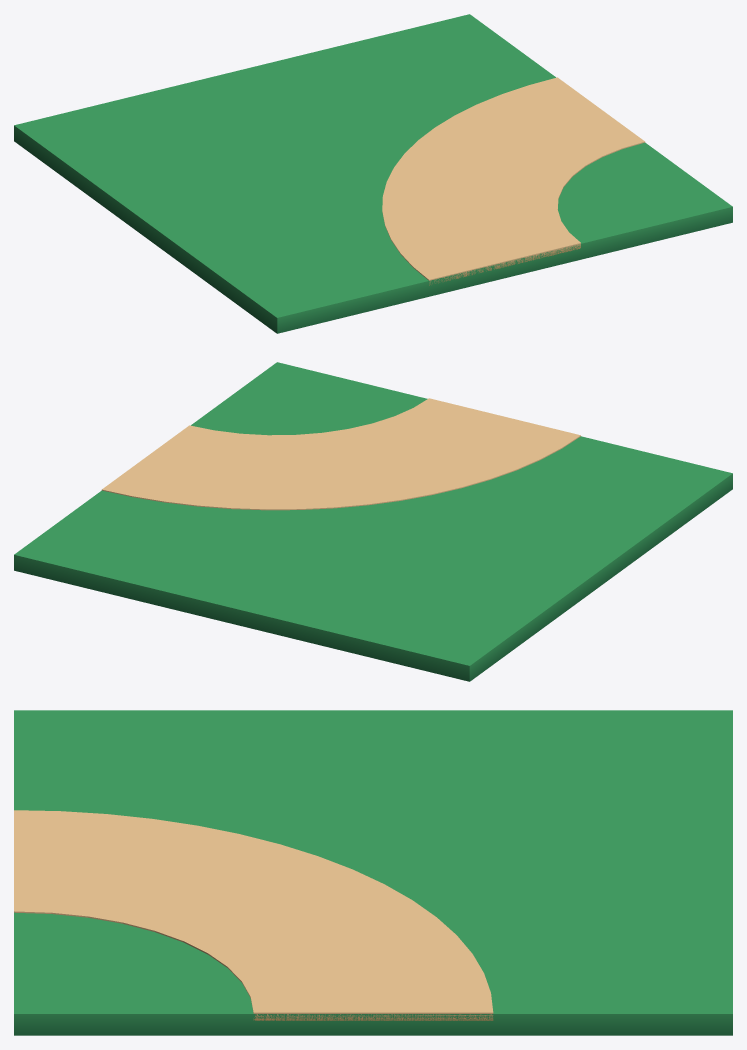
Rendered from camino_curva.glb.
3 views of the same model, one above another, from view 1: azimuth 30°, elevation 25°; view 2: azimuth 150°, elevation 25°; view 3: azimuth 270°, elevation 25° (orthographic). The views are drawn at different scales.
Visible parts, largest first — view 1: camino_curva; view 2: camino_curva; view 3: camino_curva.
Boxes of the visible parts, x1=… form: camino_curva: x1=14, y1=14, x2=732, y2=333; camino_curva: x1=14, y1=362, x2=732, y2=681; camino_curva: x1=14, y1=710, x2=732, y2=1035.
Size of the model in its own units: 6 by 0.212 by 6.
1 material, 1 textured.
